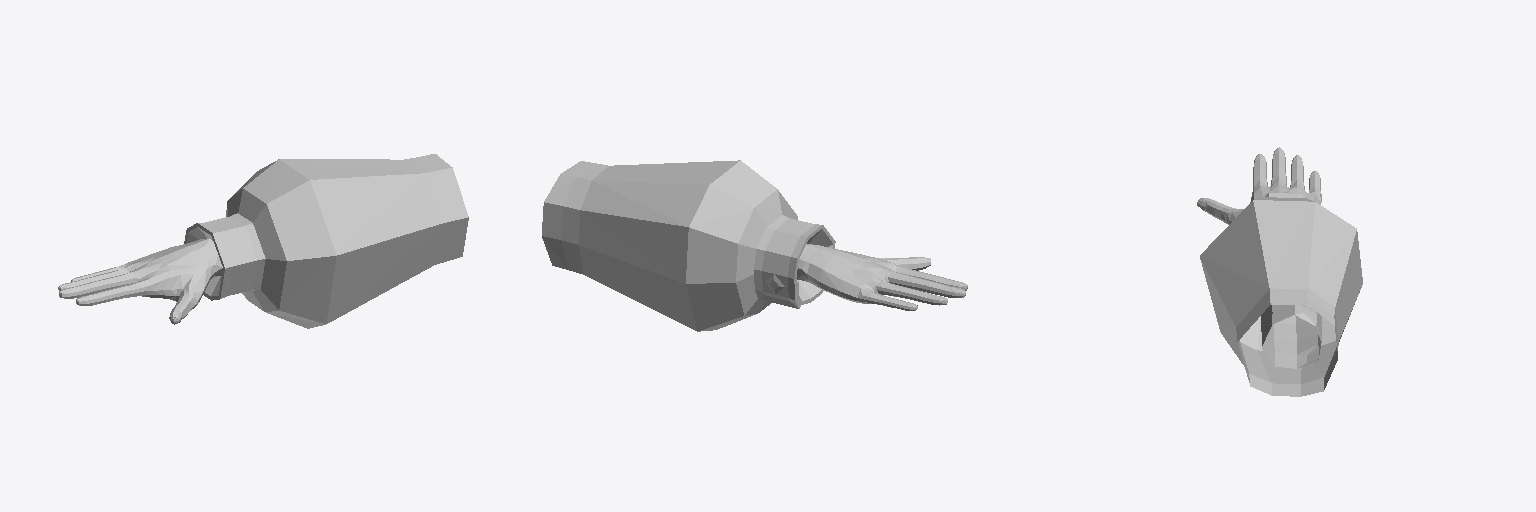
The model's file is KOSHIRO_Brazo_2.obj.
3 renders of one model, left to right at view 1: azimuth 30°, elevation 25°; view 2: azimuth 150°, elevation 25°; view 3: azimuth 270°, elevation 25°, orthographic.
Visible parts, largest first — view 1: Brazo_2_face_Plane.003; view 2: Brazo_2_face_Plane.003; view 3: Brazo_2_face_Plane.003.
Boxes of the visible parts, box(x1,y1,x2,y2) form: Brazo_2_face_Plane.003: box(58, 154, 468, 328); Brazo_2_face_Plane.003: box(542, 160, 967, 331); Brazo_2_face_Plane.003: box(1197, 147, 1362, 396).
Bounding box in the file's own units: 0.3601 × 0.1324 × 0.1316.